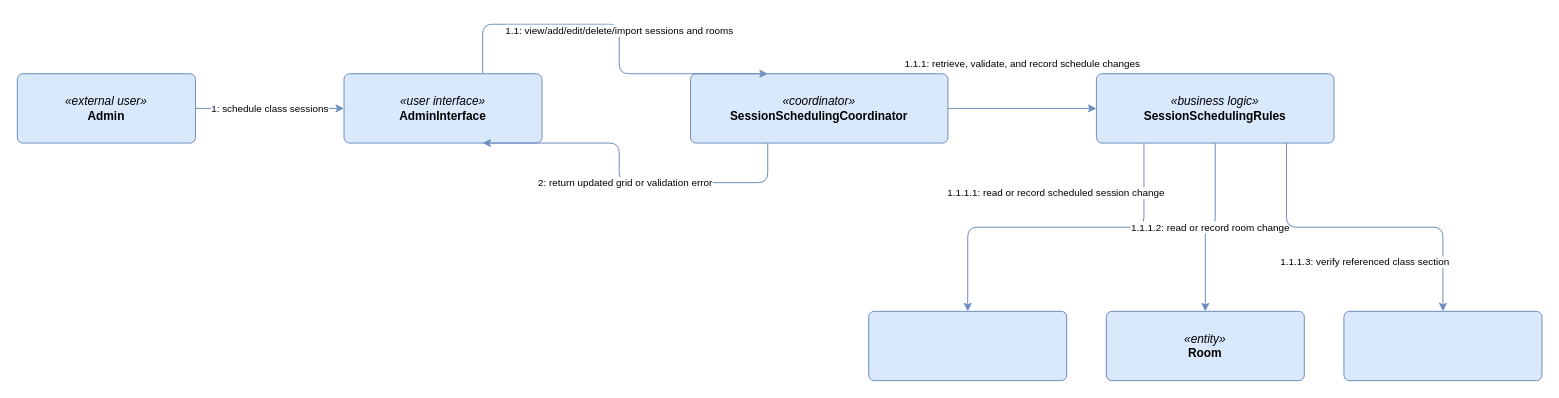
The diagram is 1559 pixels wide and 398 high, and some of its shapes have lost their labels. The shapes that lost their labels are listed below. From the top down, each one's centre as x and y in pixels, then its label:
At (967,345): "«entity» Session".
At (1442,345): "«entity» ClassSection".
